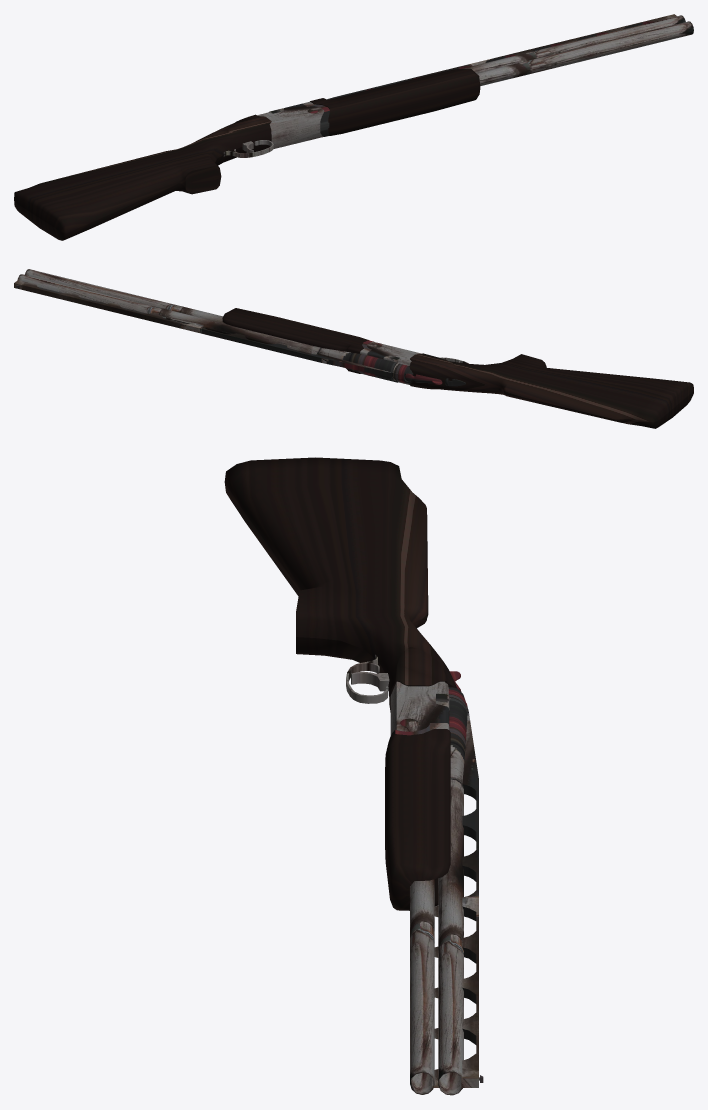
File: t5_weapon_beretta682_viewmodel.glb
3 renders of one model, top to bottom at view 1: azimuth 30°, elevation 25°; view 2: azimuth 150°, elevation 25°; view 3: azimuth 270°, elevation 25°, orthographic. The views are drawn at different scales.
Visible parts, largest first — view 1: t5_weapon_beretta682_viewmodel; view 2: t5_weapon_beretta682_viewmodel; view 3: t5_weapon_beretta682_viewmodel.
Boxes of the visible parts, x1=… form: t5_weapon_beretta682_viewmodel: x1=14, y1=14, x2=693, y2=240; t5_weapon_beretta682_viewmodel: x1=14, y1=269, x2=693, y2=428; t5_weapon_beretta682_viewmodel: x1=224, y1=457, x2=483, y2=1095.
Size of the model in its own units: 1.28 by 0.0488 by 0.2296.
2 materials, 2 textured.
